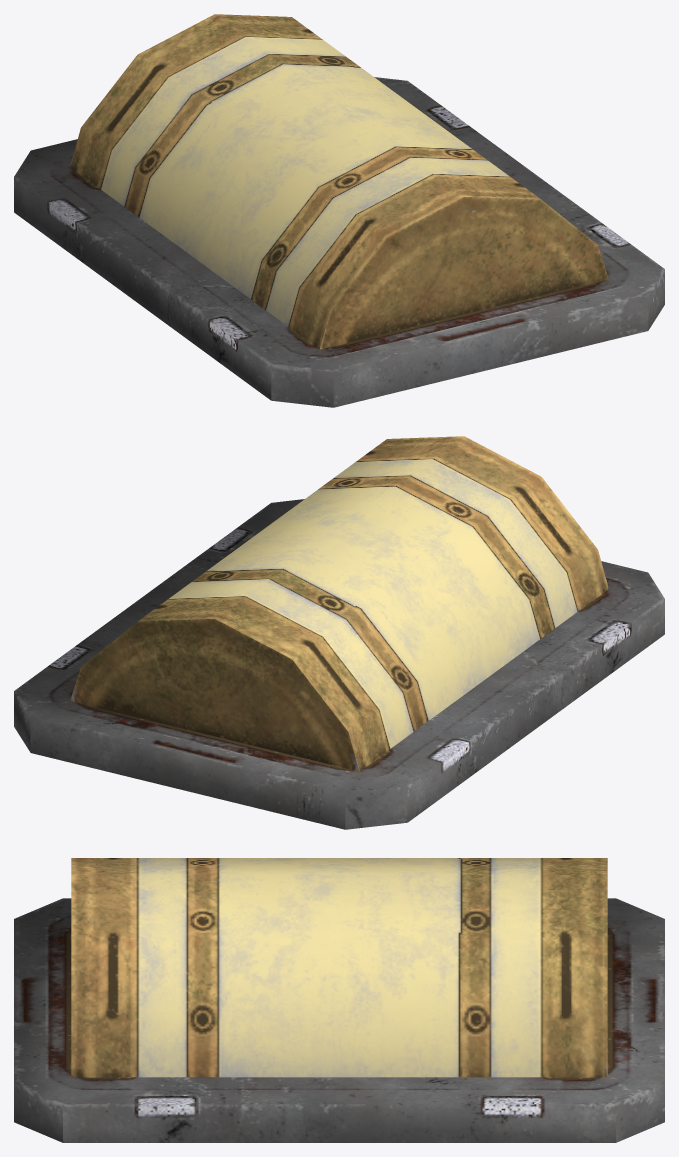
File: Light_Cylindric.fbx
The picture shows the model from 3 angles, top to bottom: view 1: azimuth 30°, elevation 25°; view 2: azimuth 150°, elevation 25°; view 3: azimuth 270°, elevation 25°; orthographic projection. The views are drawn at different scales.
Visible parts, largest first — view 1: Light_Cylindric; view 2: Light_Cylindric; view 3: Light_Cylindric.
Part boxes in pixels (x1,y1,x2,y2): Light_Cylindric: (14, 14, 664, 407); Light_Cylindric: (14, 436, 664, 829); Light_Cylindric: (14, 858, 664, 1142).
Bounding box in the file's own units: 0.2249 × 0.0835 × 0.2997.
